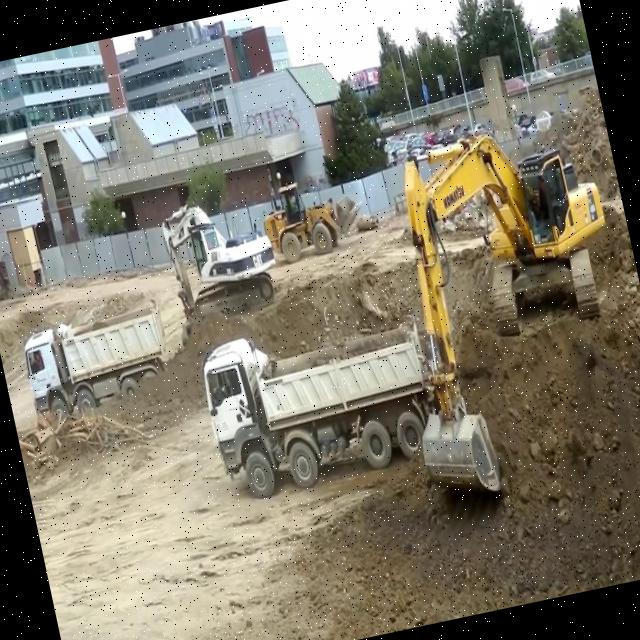Dump Truck: (194, 296, 452, 503), (17, 302, 179, 427)
Excavator: (356, 104, 640, 512), (155, 186, 283, 322)
Loader: (254, 167, 370, 264)
